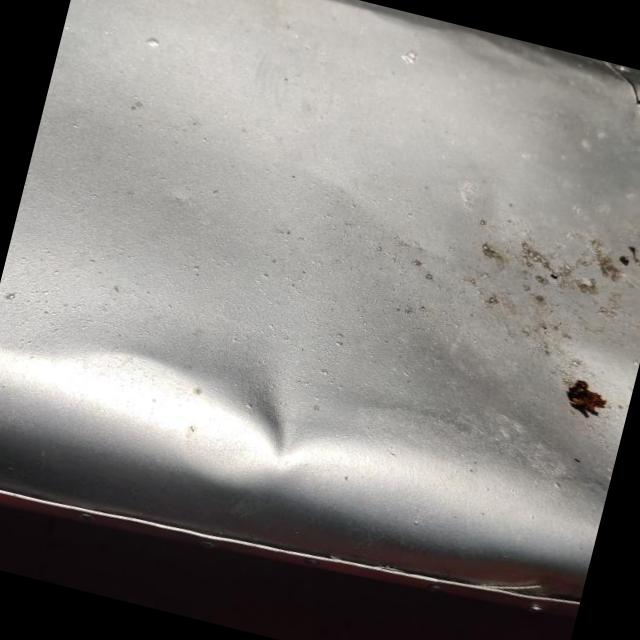Dent: (197, 324, 356, 482)
